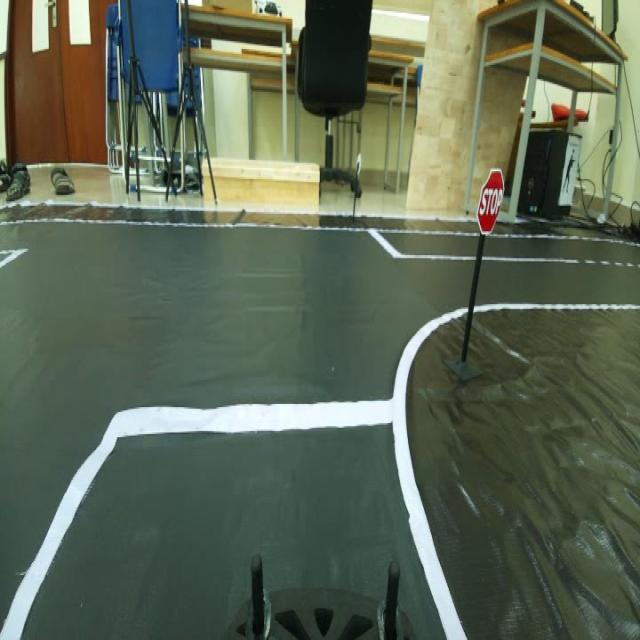stop: (471, 165, 506, 239)
